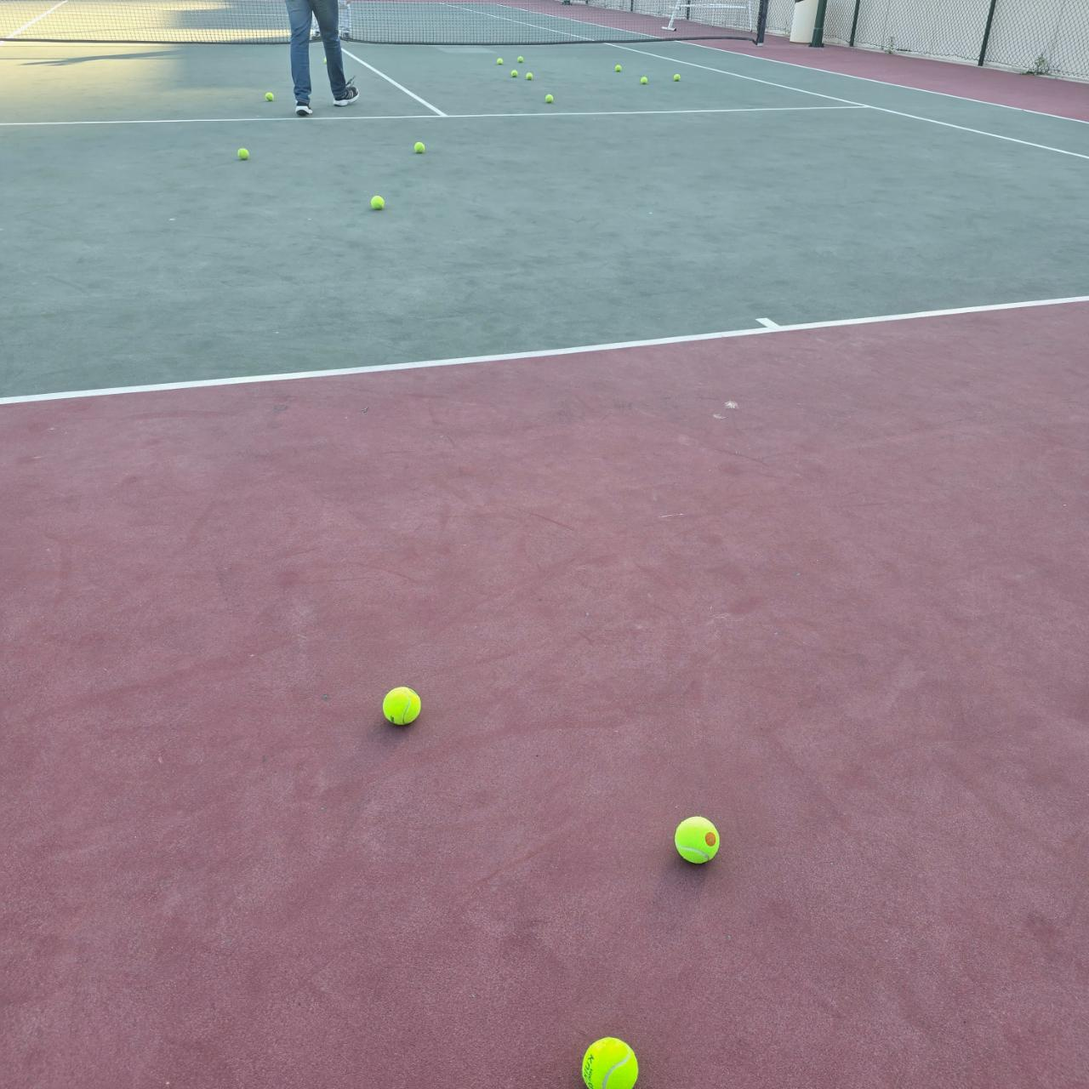tennis-ball: (581, 1035, 641, 1087), (674, 813, 721, 864), (382, 684, 423, 726), (371, 195, 385, 210), (237, 147, 249, 160), (414, 142, 425, 153), (265, 92, 274, 102), (545, 94, 553, 104), (525, 73, 533, 81), (673, 73, 681, 81), (640, 76, 648, 84), (615, 64, 622, 73), (511, 70, 518, 78), (497, 58, 503, 65), (517, 56, 523, 63)
